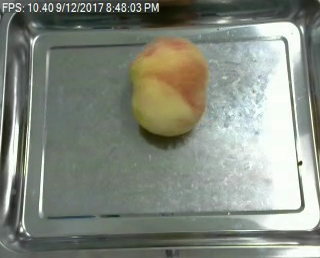Peach: (128, 35, 209, 135)
